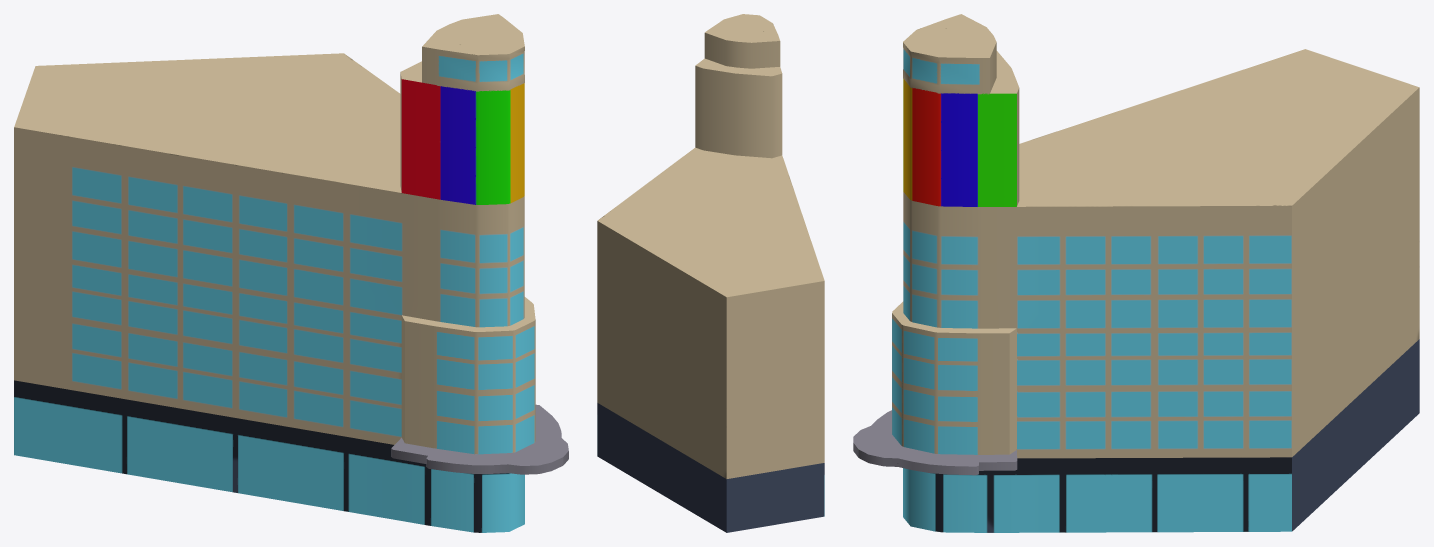
The model's file is Sweps 1.fbx.
The picture shows the model from 3 angles, left to right: view 1: azimuth 30°, elevation 25°; view 2: azimuth 150°, elevation 25°; view 3: azimuth 270°, elevation 25°; orthographic projection. The views are drawn at different scales.
Visible parts, largest first — view 1: Sweps.004; view 2: Sweps.004; view 3: Sweps.004.
Part boxes in pixels (<box>): Sweps.004: <box>14,14,568,532</box>; Sweps.004: <box>597,14,824,532</box>; Sweps.004: <box>853,14,1419,532</box>.
Size of the model in its own units: 9687 by 12292 by 13279.
1 material, 1 textured.
